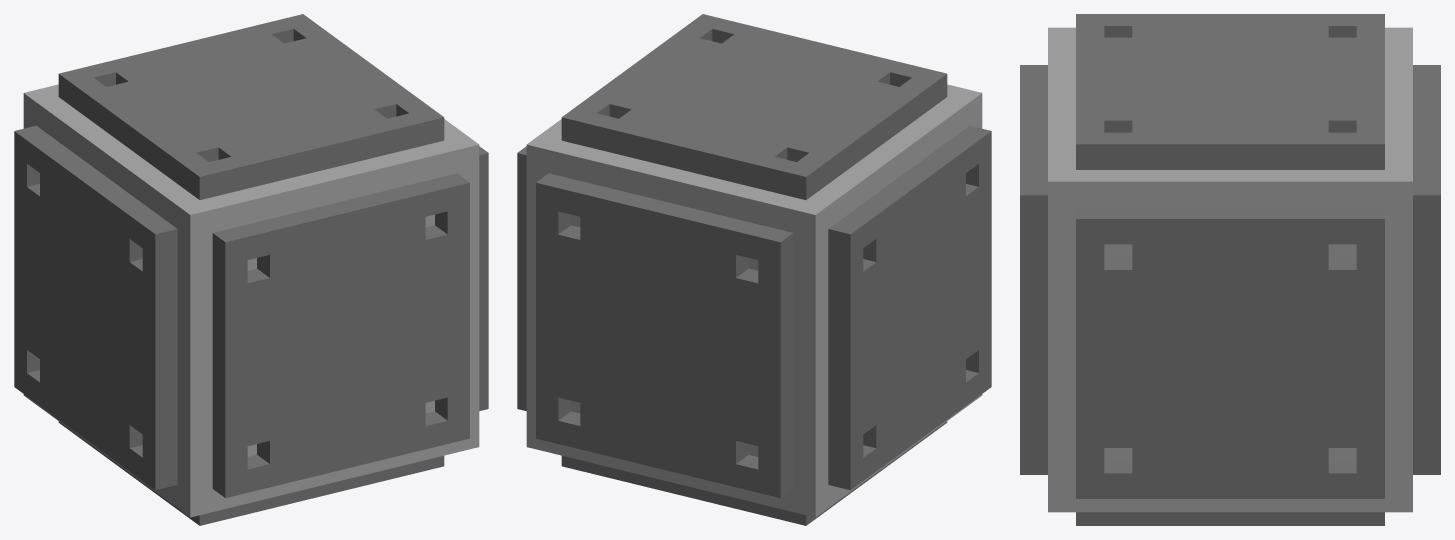
File: small metal box 2.obj
3 views of the same model, side by side, from view 1: azimuth 30°, elevation 25°; view 2: azimuth 150°, elevation 25°; view 3: azimuth 270°, elevation 25° (orthographic). The views are drawn at different scales.
Size of the model in its own units: 1.5 by 1.5 by 1.5.
1 material, 1 textured.
